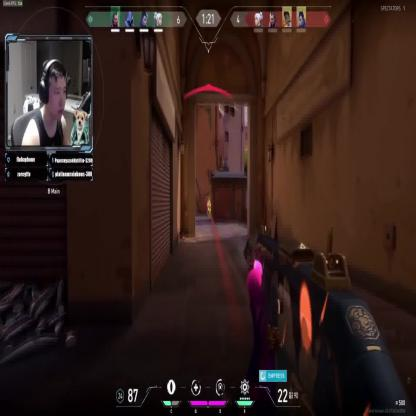enemy: (207, 200, 211, 217)
enemy_head: (208, 200, 210, 204)
